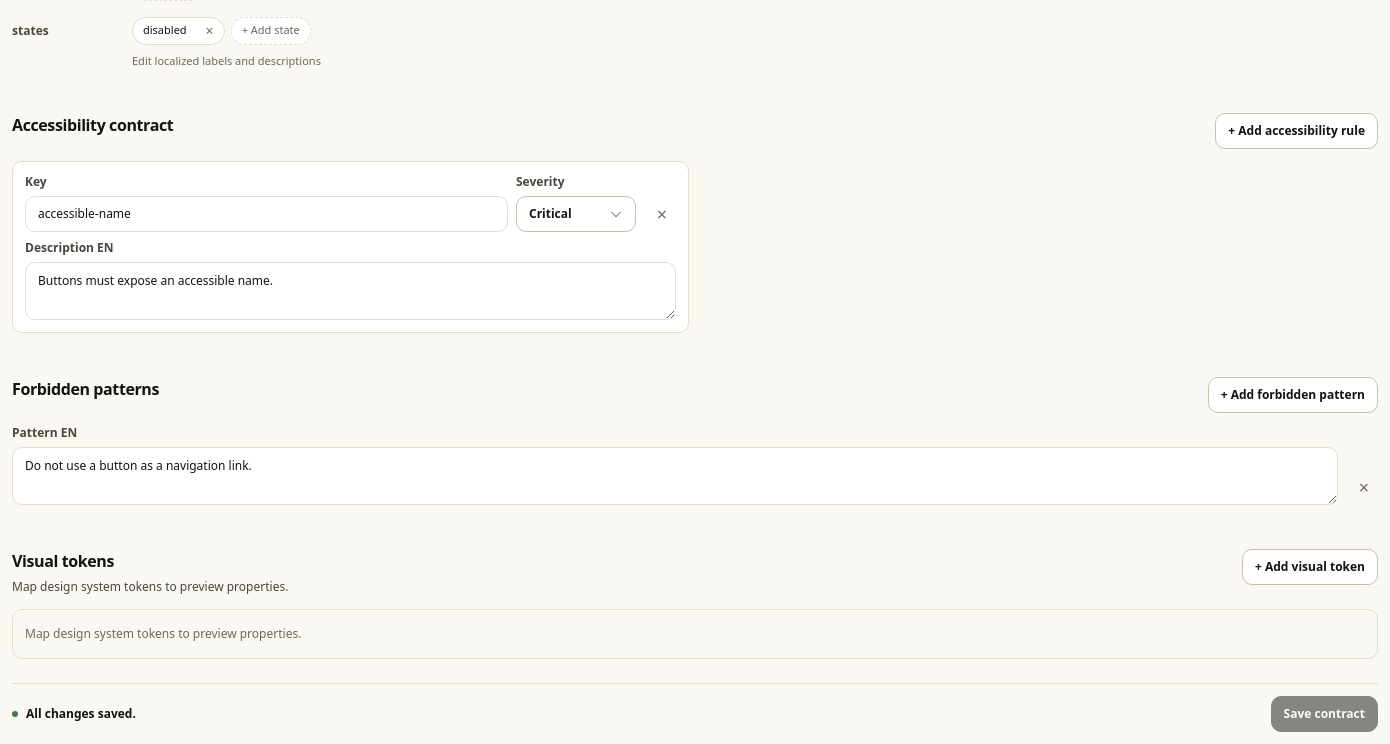
Test case: ComponentContractEditor › disables official preview roles that are already used
(page scrolled)
Click the button "+ Add visual token" at (1310, 567), box x1=1242 y1=549 x2=1378 y2=585
(page scrolled)
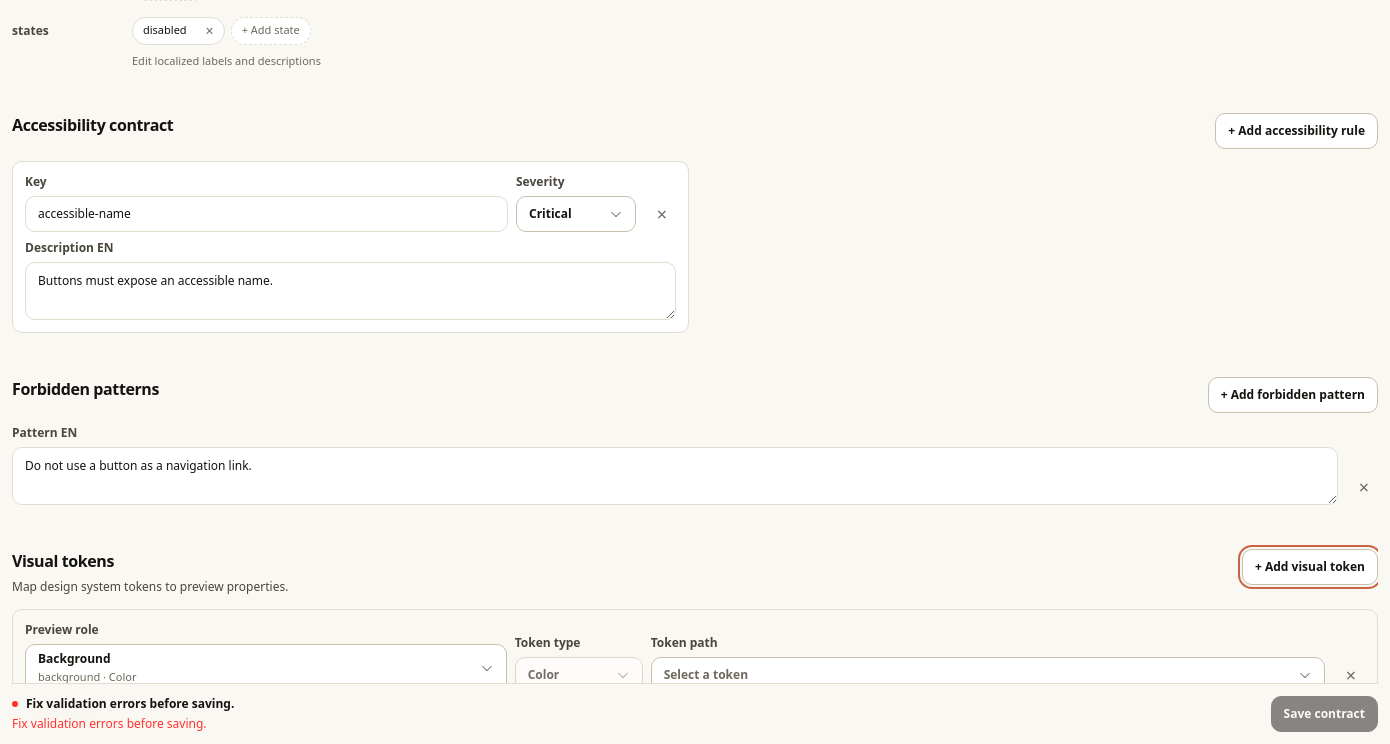
Click the button "+ Add visual token" at (1310, 567), box x1=1242 y1=549 x2=1378 y2=585
(page scrolled)
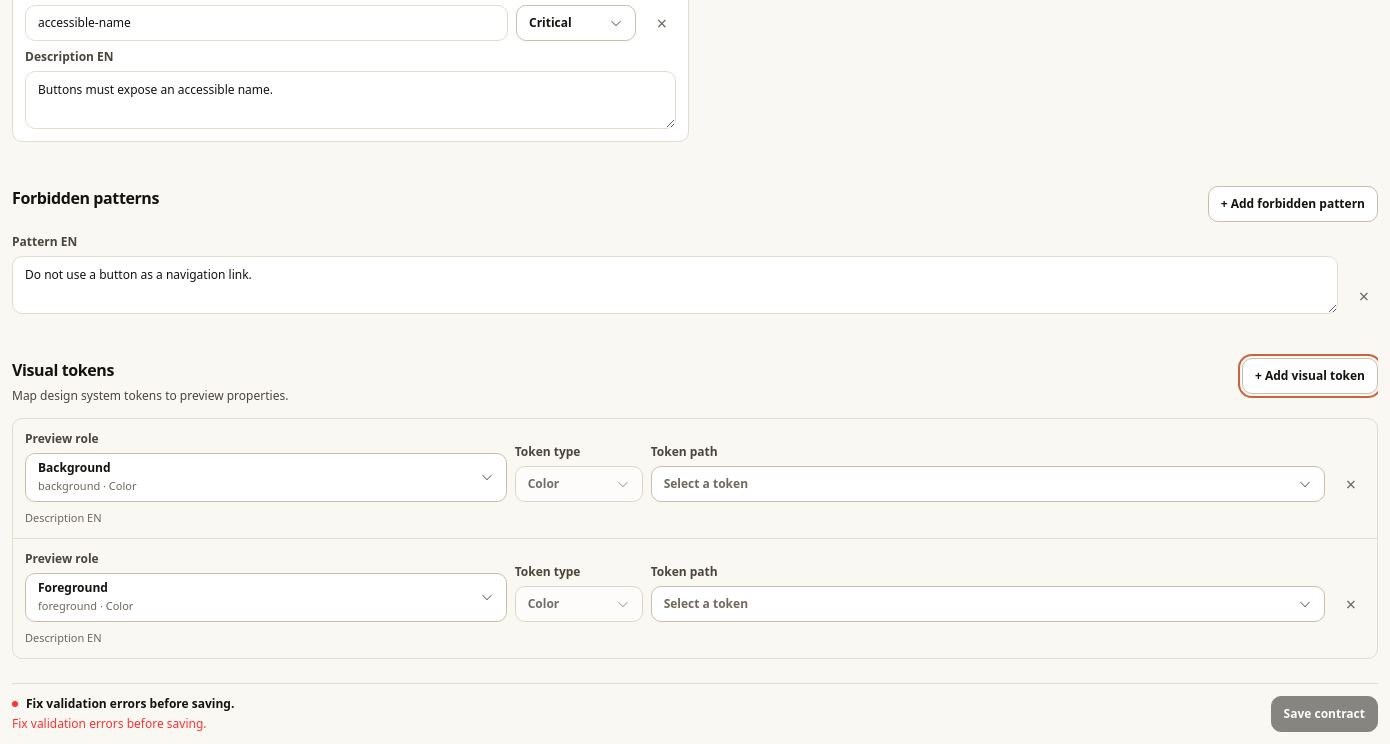
Expected: the dropdown named "Preview role" shows "Background", x1=25 y1=453 x2=507 y2=502
Expected: the dropdown named "Preview role" shows "Foreground"
Click the dropdown named "Preview role" at (73, 588), box x1=25 y1=573 x2=507 y2=622
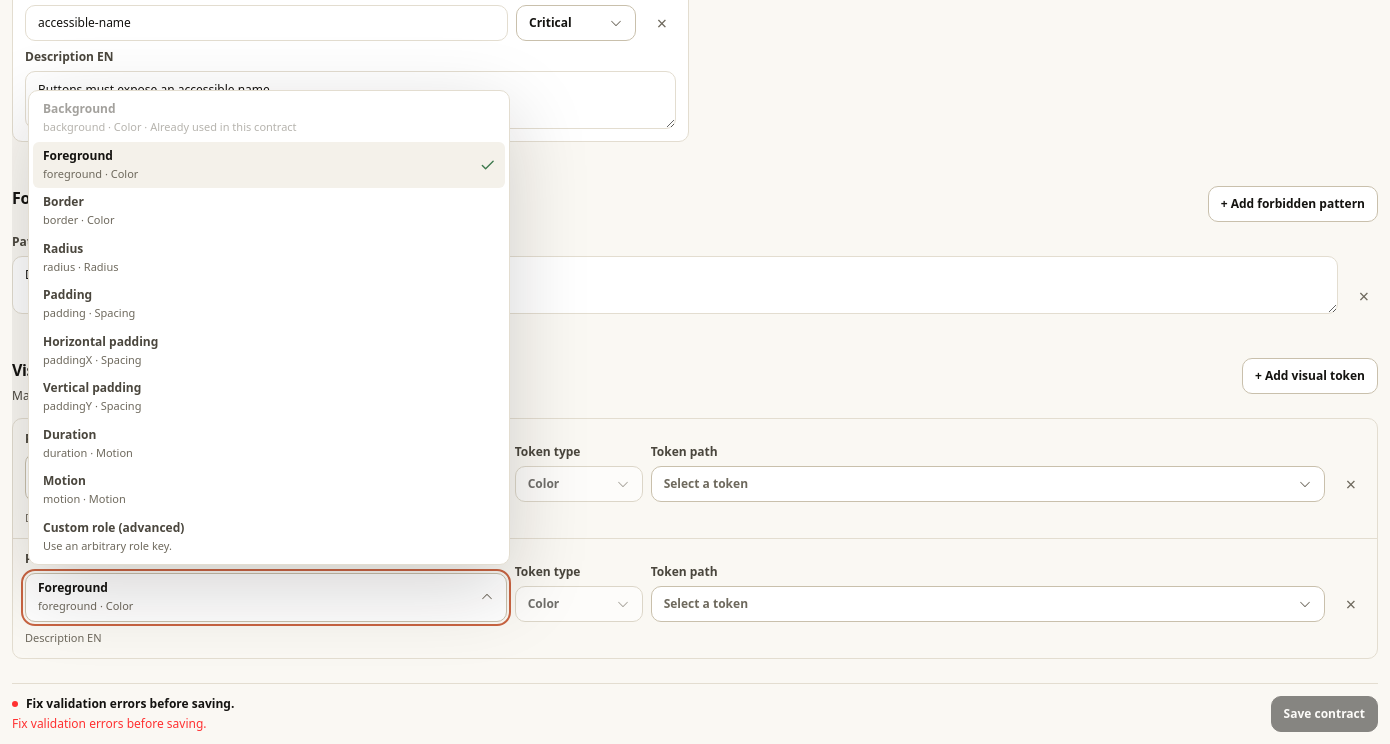
Expected: the option "Background background · Color · Already used in this contract" is disabled, x1=33 y1=95 x2=505 y2=142
